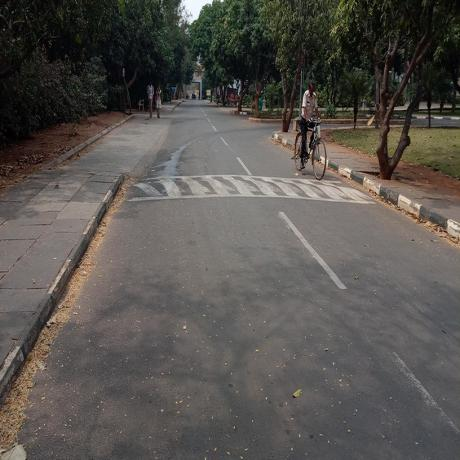Speed Bump: (123, 174, 379, 202)
